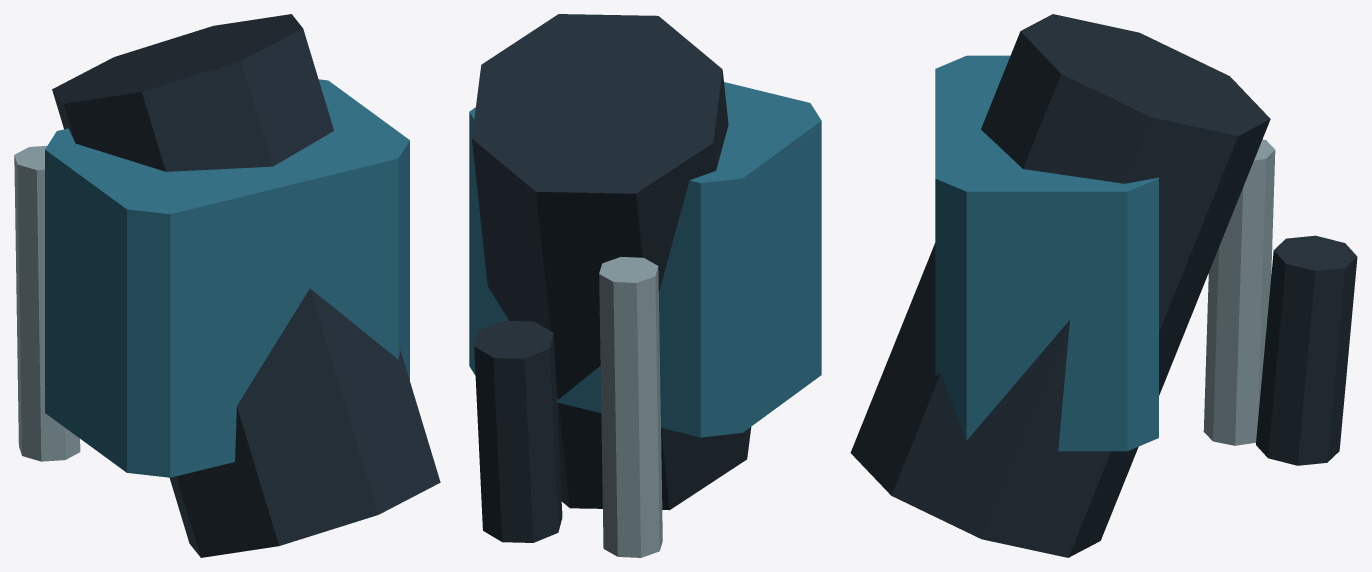
The model's file is enemy_marksman_thigh_r.obj.
3 views of the same model, side by side, from view 1: azimuth 30°, elevation 25°; view 2: azimuth 150°, elevation 25°; view 3: azimuth 270°, elevation 25° (orthographic). The views are drawn at different scales.
Bounding box in the file's own units: 0.3939 × 0.5985 × 0.5667.
